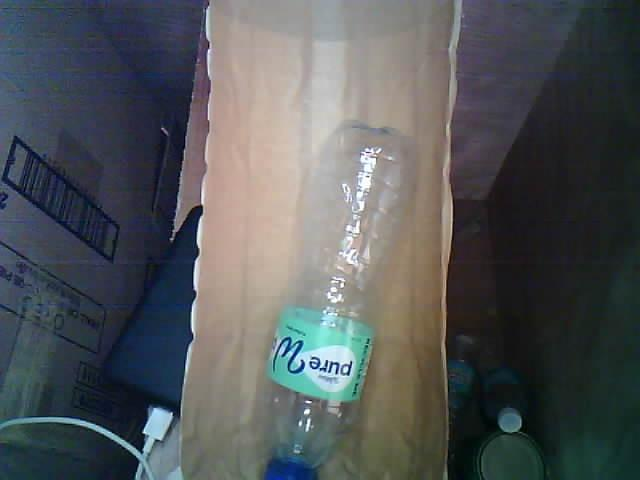small_bottle: (239, 115, 431, 480)
